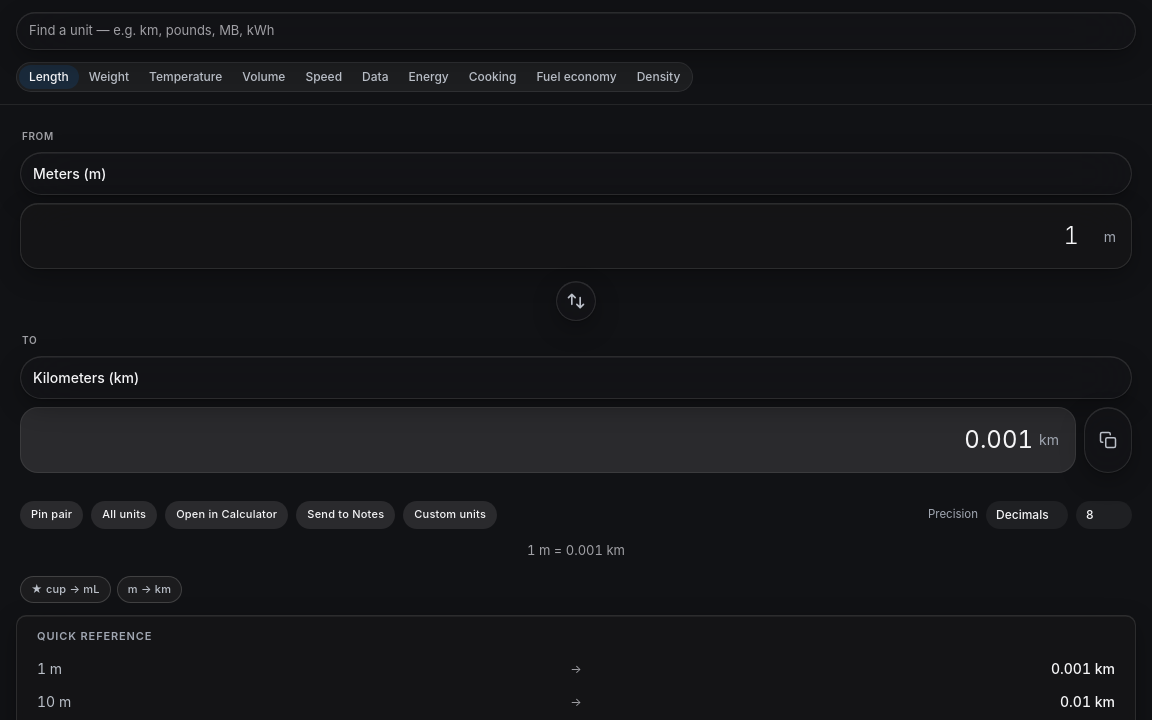
Test: utility backlog › converts cooking measurements into every unit at the configured precision and persists a pinned pair
The width and height of the screenshot is (1152, 720).
Earlier steps of the test are not shown.
Click the button with aria-label "US Cups → Milliliters" at [65, 589], box [20, 576, 111, 602]
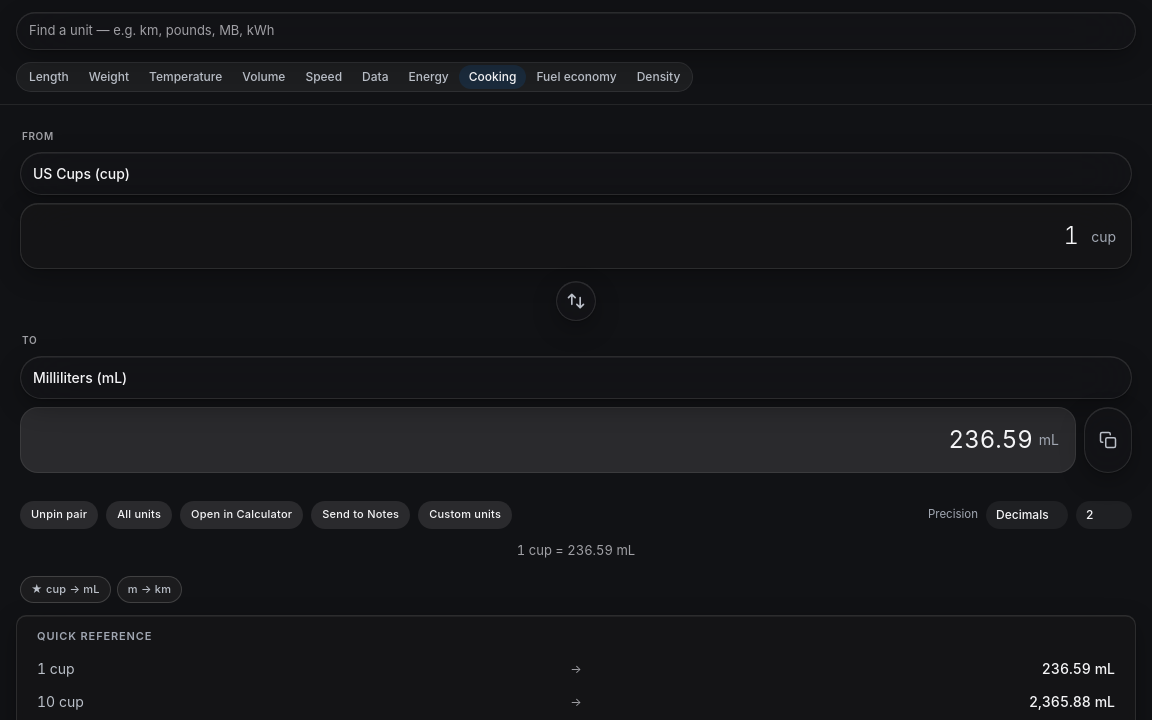
Now the button "Unpin pair" is shown, box [20, 500, 98, 528]
Now the dropdown named "Precision digits" shows "2", box [1076, 500, 1132, 528]
